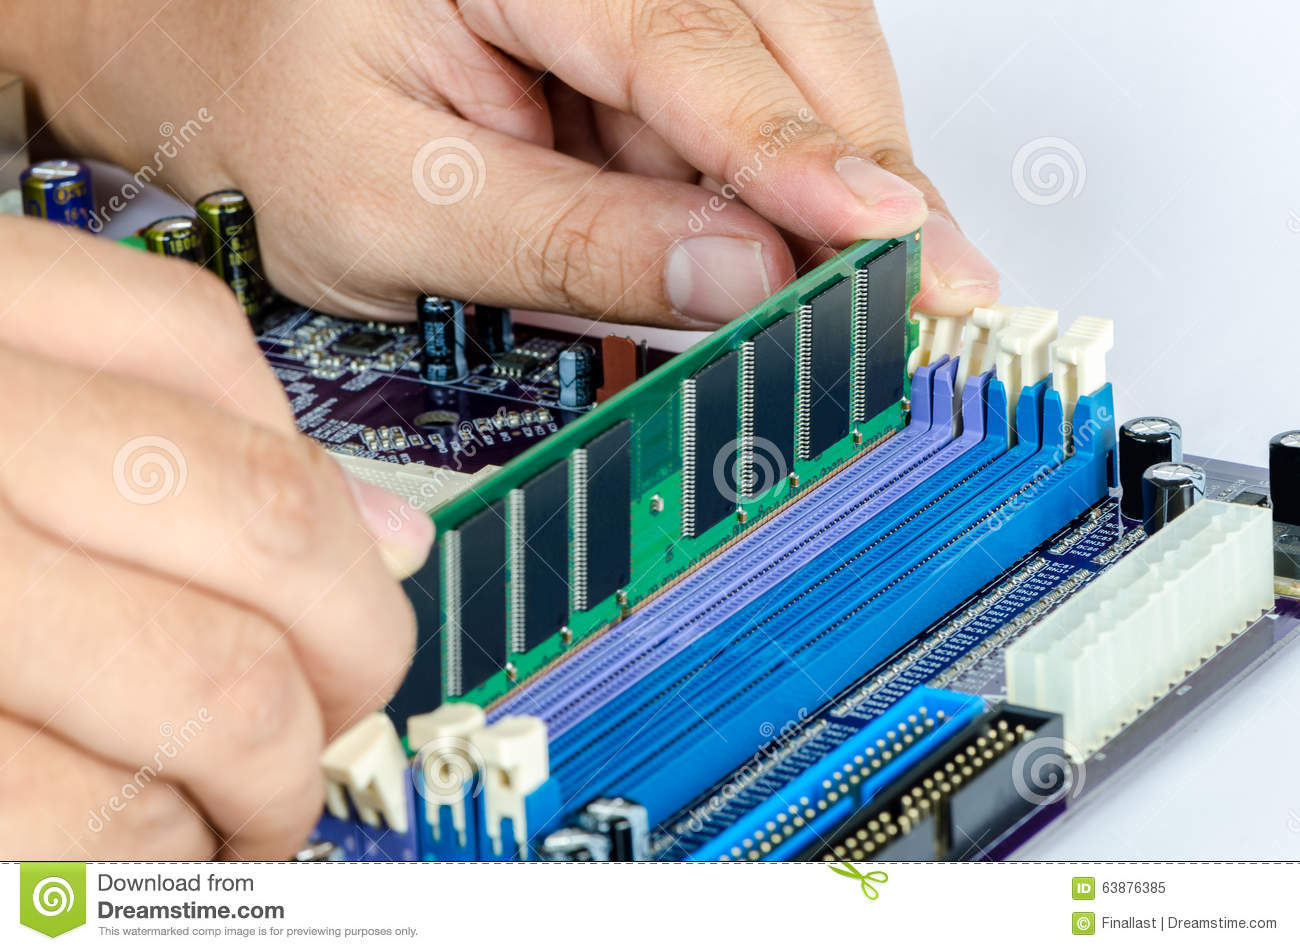ram: (386, 223, 923, 760)
